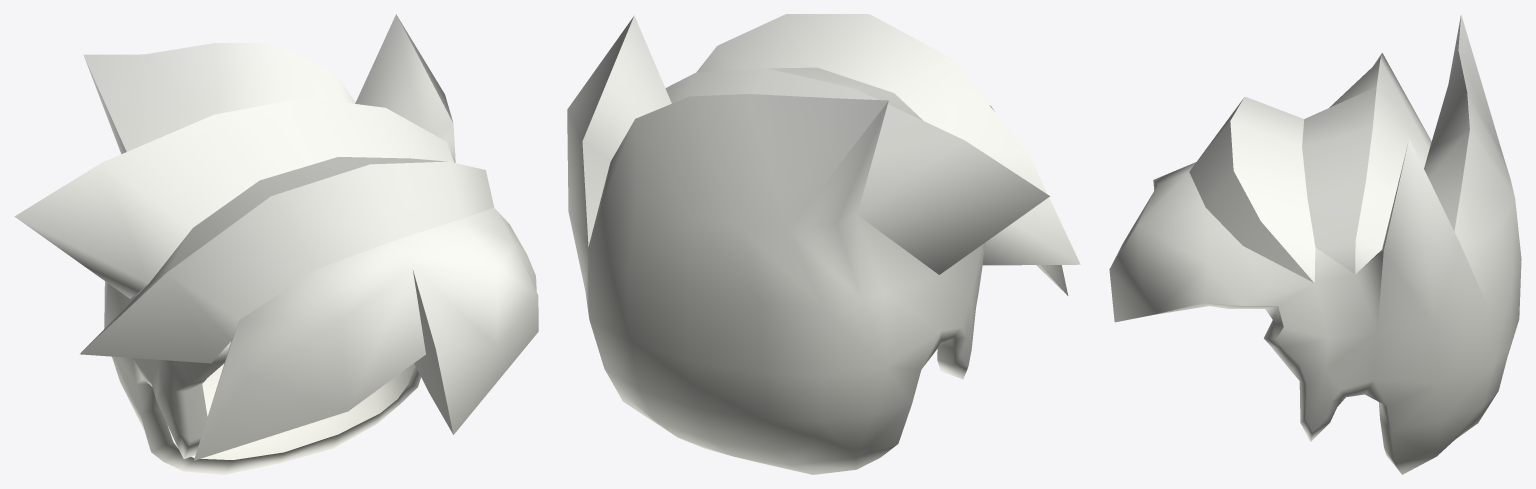
The model's file is Hair_White_14.fbx.
3 views of the same model, side by side, from view 1: azimuth 30°, elevation 25°; view 2: azimuth 150°, elevation 25°; view 3: azimuth 270°, elevation 25° (orthographic). The views are drawn at different scales.
Parts seen in each view (by area): view 1: Hair_White_14; view 2: Hair_White_14; view 3: Hair_White_14.
Part boxes in pixels (x1,y1,x2,y2): Hair_White_14: [14, 14, 538, 474]; Hair_White_14: [567, 14, 1080, 474]; Hair_White_14: [1109, 14, 1521, 474].
Bounding box in the file's own units: 72.54 × 64.55 × 65.91.
